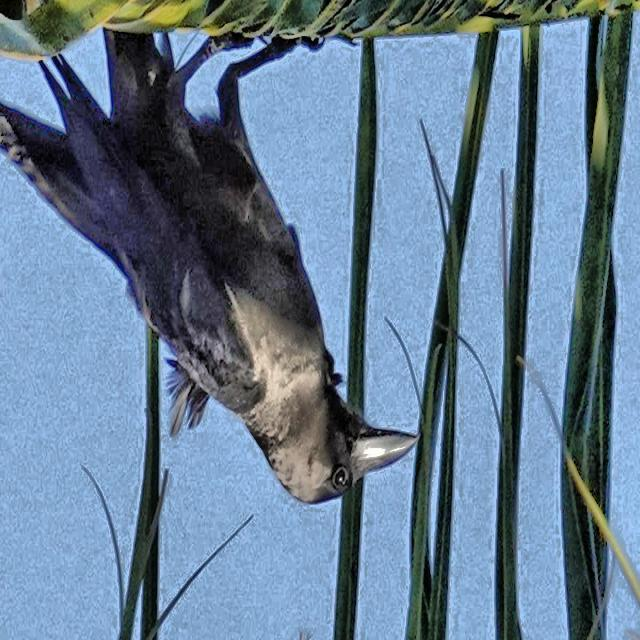crow: (6, 21, 428, 542)
